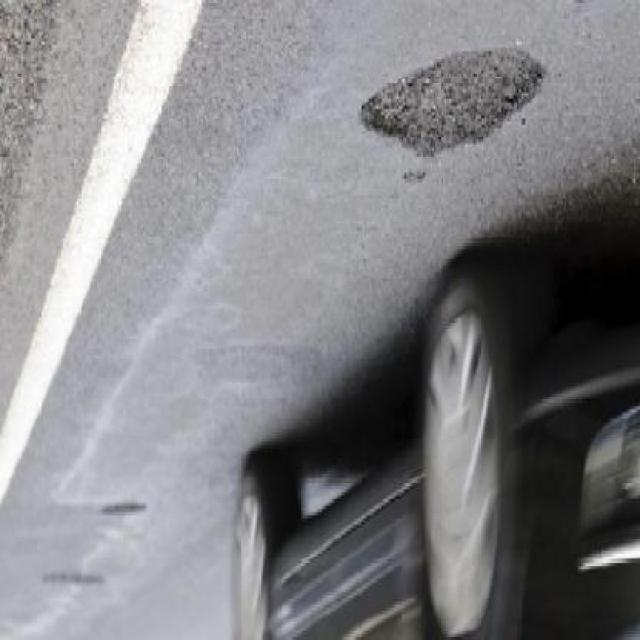pothole: (357, 41, 549, 157)
